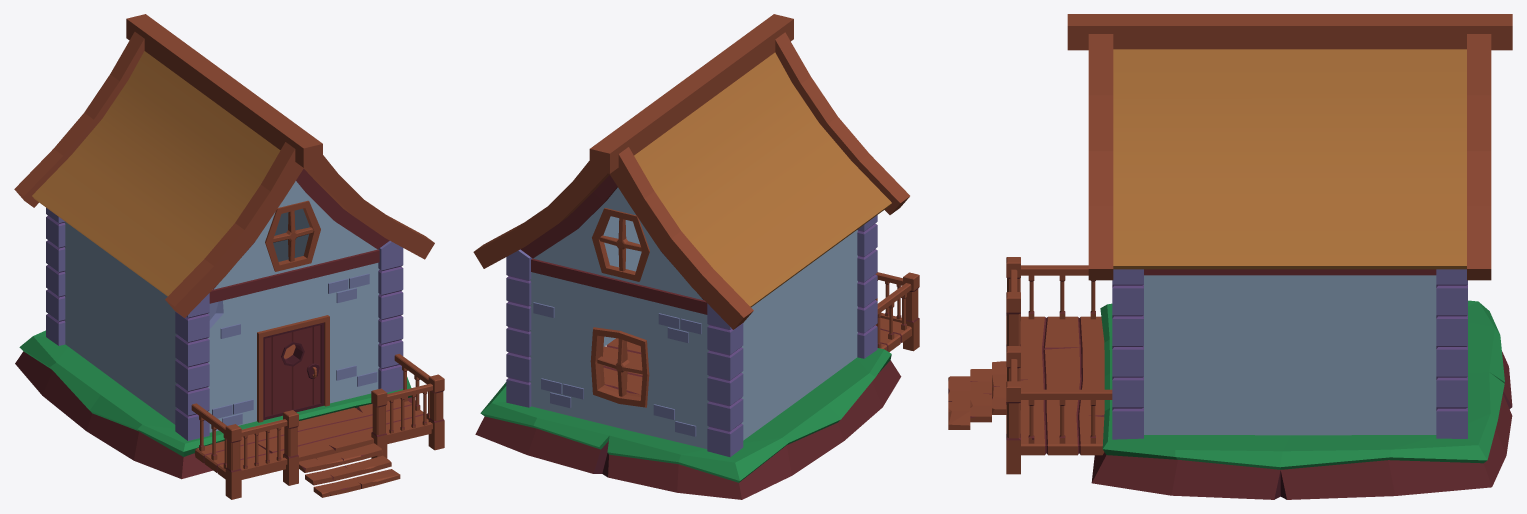
Rendered from House.fbx.
3 views of the same model, side by side, from view 1: azimuth 30°, elevation 25°; view 2: azimuth 150°, elevation 25°; view 3: azimuth 270°, elevation 25° (orthographic). The views are drawn at different scales.
Parts seen in each view (by area): view 1: H_Roof, H_L_Wall, H_F_Wall, H_Foundation, H_Railings, H_Out_Floor, H_Door, H_R_Wall, H_Steps; view 2: H_Roof, H_Foundation, H_B_Wall, H_L_Wall, H_R_Wall, H_Railings, H_In_ Floor, H_Out_Floor; view 3: H_Roof, H_R_Wall, H_Foundation, H_Out_Floor, H_Railings, H_Steps.
Boxes of the visible parts, left/top/right/bottom form: H_Roof: left=14, top=14, right=434, bottom=317; H_L_Wall: left=46, top=208, right=209, bottom=440; H_F_Wall: left=208, top=263, right=379, bottom=432; H_Foundation: left=15, top=330, right=415, bottom=479; H_Railings: left=191, top=354, right=444, bottom=499; H_Out_Floor: left=194, top=398, right=431, bottom=479; H_Door: left=263, top=322, right=324, bottom=420; H_R_Wall: left=273, top=208, right=403, bottom=392; H_Steps: left=299, top=443, right=400, bottom=497; H_Roof: left=473, top=14, right=909, bottom=329; H_Foundation: left=475, top=348, right=901, bottom=499; H_B_Wall: left=530, top=272, right=709, bottom=448; H_L_Wall: left=707, top=215, right=877, bottom=457; H_R_Wall: left=506, top=216, right=641, bottom=407; H_Railings: left=875, top=272, right=919, bottom=351; H_In_ Floor: left=603, top=338, right=642, bottom=394; H_Out_Floor: left=875, top=318, right=911, bottom=352; H_Roof: left=1067, top=14, right=1512, bottom=280; H_R_Wall: left=1112, top=269, right=1467, bottom=439; H_Foundation: left=1091, top=300, right=1512, bottom=499; H_Out_Floor: left=1020, top=316, right=1104, bottom=455; H_Railings: left=1006, top=257, right=1112, bottom=474; H_Steps: left=948, top=361, right=1006, bottom=429.
Bounding box in the file's own units: 8.49 × 8.85 × 11.55.
1 material, 1 textured.
